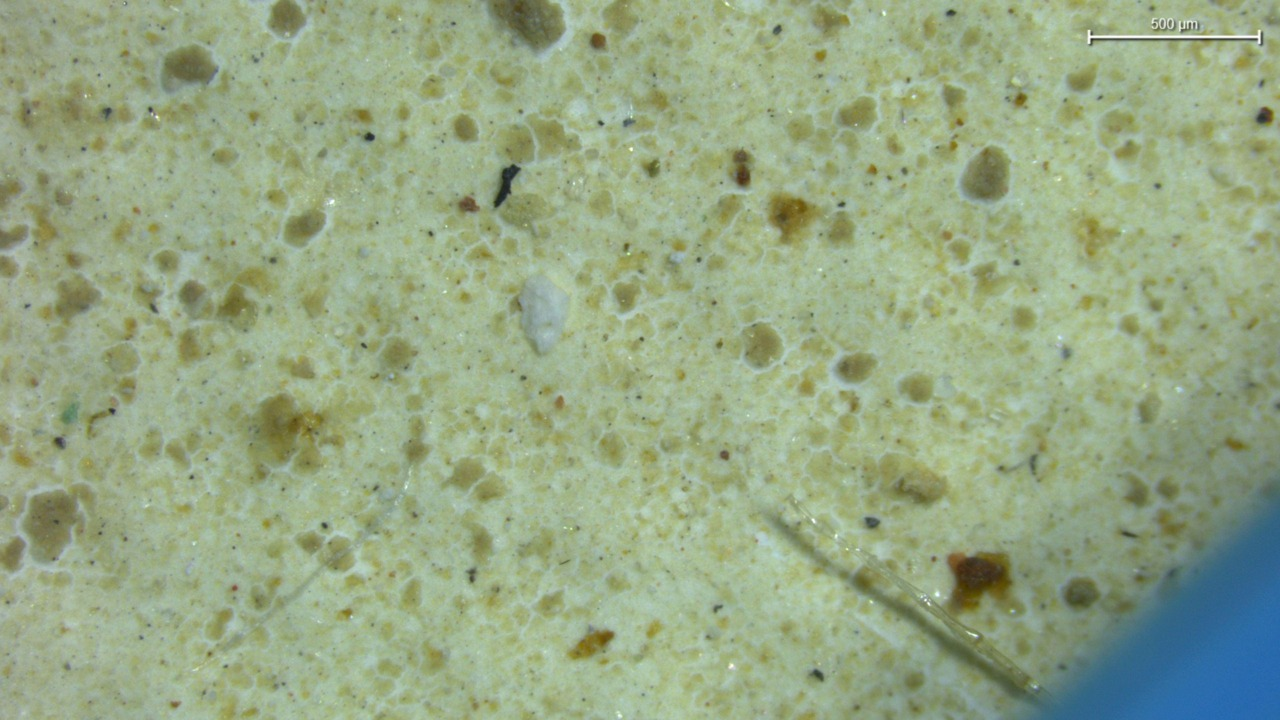microplastic_fragment: (518, 275, 569, 354)
